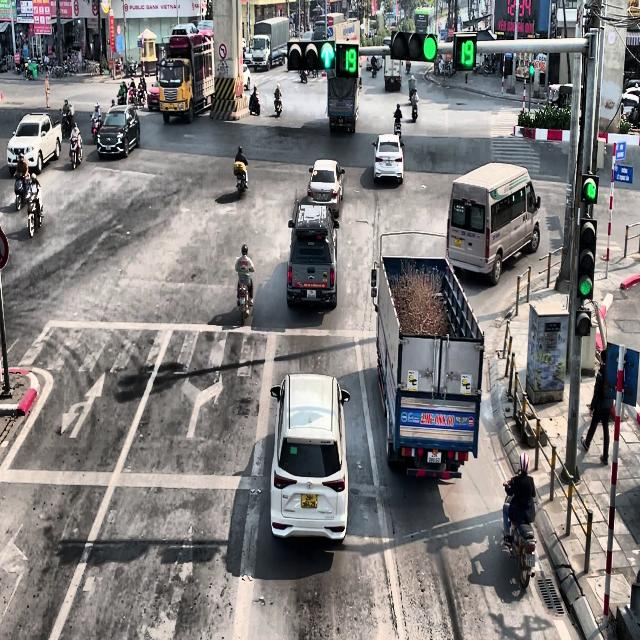lisence_plate: (400, 408, 475, 431), (300, 492, 318, 509), (426, 450, 442, 464), (461, 228, 476, 239), (304, 289, 316, 299), (318, 192, 328, 200), (455, 237, 462, 247), (386, 159, 392, 166), (338, 118, 344, 124), (390, 78, 395, 84)
